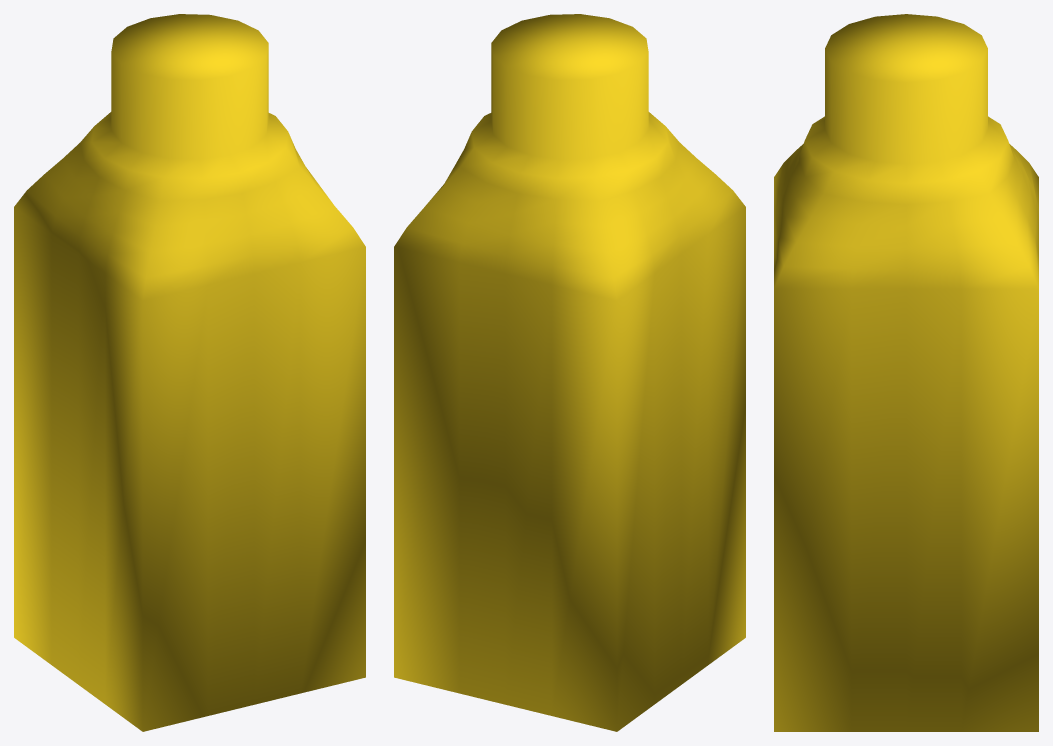
The model's file is bottle_final1.dae.
3 renders of one model, left to right at view 1: azimuth 30°, elevation 25°; view 2: azimuth 150°, elevation 25°; view 3: azimuth 270°, elevation 25°, orthographic. The views are drawn at different scales.
Parts seen in each view (by area): view 1: bottle_metric; view 2: bottle_metric; view 3: bottle_metric.
Boxes of the visible parts, bbox=[...] form: bottle_metric: bbox=[14, 14, 365, 731]; bottle_metric: bbox=[394, 14, 745, 731]; bottle_metric: bbox=[774, 14, 1038, 731].
Size of the model in its own units: 0.065 by 0.065 by 0.17.
